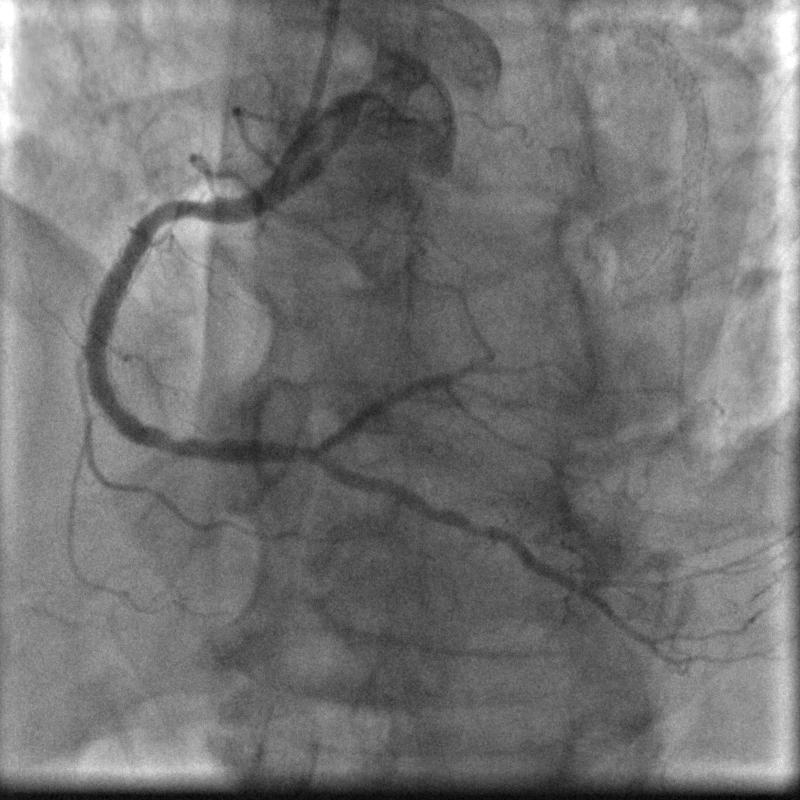Stenosis: (166, 187, 224, 224)
